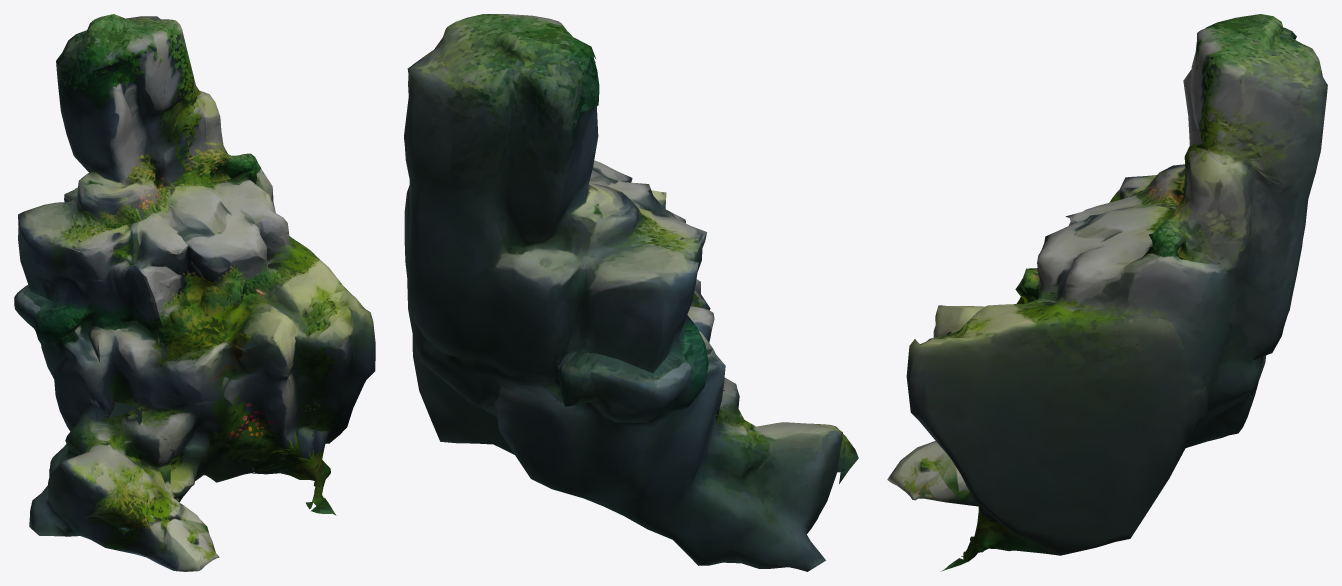
Rendered from rocky+cliff+3d+model.fbx.
3 renders of one model, left to right at view 1: azimuth 30°, elevation 25°; view 2: azimuth 150°, elevation 25°; view 3: azimuth 270°, elevation 25°, orthographic. The views are drawn at different scales.
Visible parts, largest first — view 1: tripo_node_64794679; view 2: tripo_node_64794679; view 3: tripo_node_64794679.
Part boxes in pixels (box(x1,y1,x2,y2)): tripo_node_64794679: box(14, 14, 375, 571); tripo_node_64794679: box(404, 14, 858, 571); tripo_node_64794679: box(887, 14, 1327, 571).
Size of the model in its own units: 66.07 by 99.47 by 79.1.
